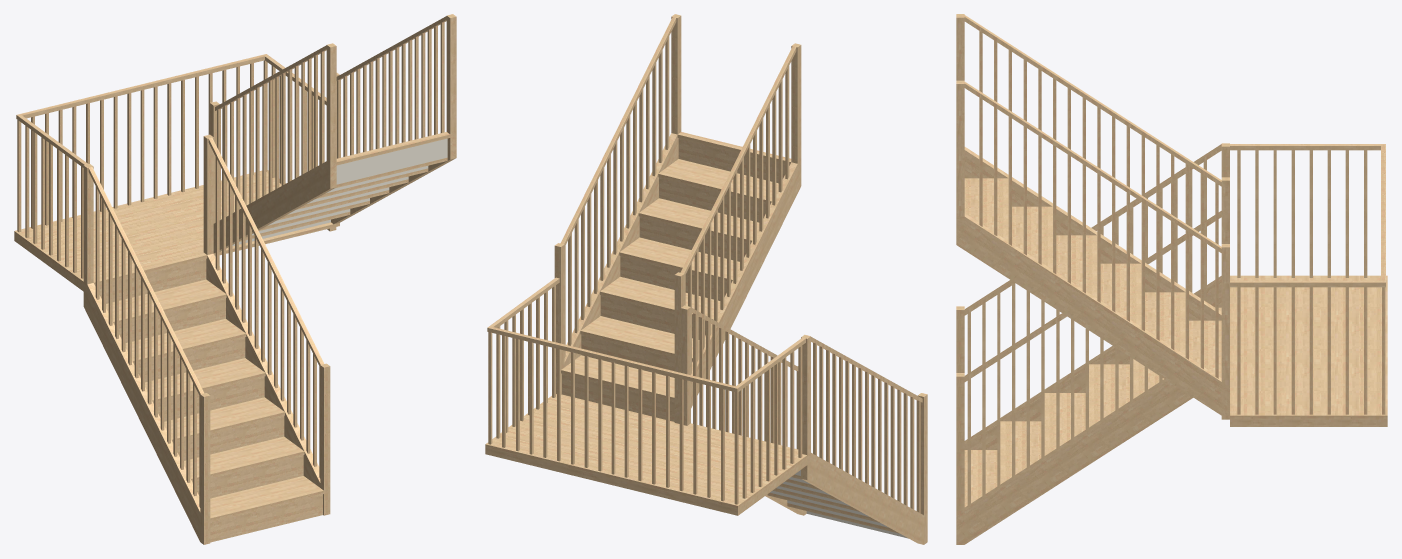
File: sweethome3d-contributions-half-landing-staircase-441.glb
3 renders of one model, left to right at view 1: azimuth 30°, elevation 25°; view 2: azimuth 150°, elevation 25°; view 3: azimuth 270°, elevation 25°, orthographic. The views are drawn at different scales.
Visible parts, largest first — view 1: 11_11, 111_111, 98_98, 95_95, 8_8; view 2: 11_11, 111_111, 98_98, 95_95, 8_8; view 3: 11_11, 111_111, 95_95.
Boxes of the visible parts, <box> form: 11_11: <box>16,14,456,544</box>; 111_111: <box>14,157,447,521</box>; 98_98: <box>95,138,447,542</box>; 95_95: <box>83,134,456,541</box>; 8_8: <box>336,132,455,165</box>; 11_11: <box>487,14,927,544</box>; 111_111: <box>485,159,899,533</box>; 98_98: <box>562,138,908,538</box>; 95_95: <box>485,133,923,544</box>; 8_8: <box>677,132,791,164</box>; 11_11: <box>956,14,1385,515</box>; 111_111: <box>964,178,1387,506</box>; 95_95: <box>956,147,1387,544</box>.
Size of the model in its own units: 200 by 353 by 260.
Materials: 7 (6 with a texture image).
